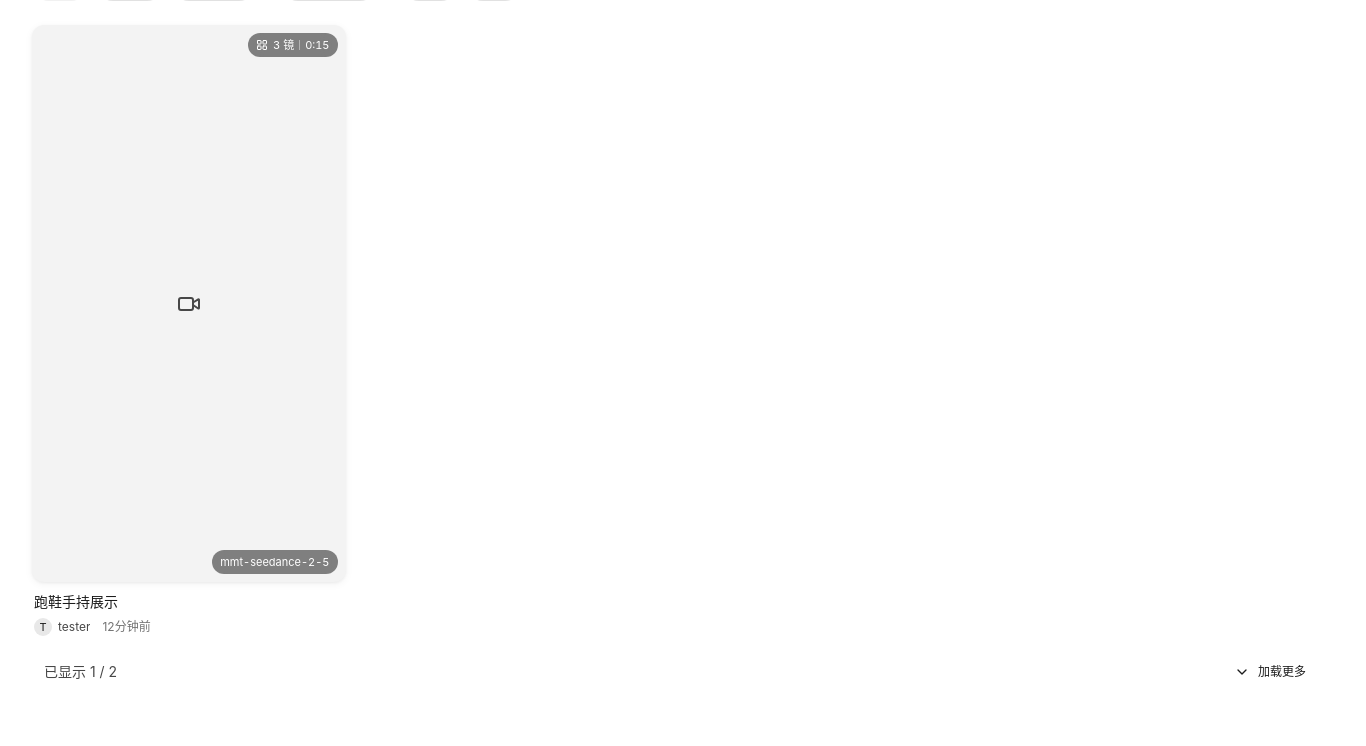
Test: LibraryRoute › pages with a cursor and says when nothing matches
(page scrolled)
expect the text "已显示 1 / 2" is shown: met, box [44, 662, 117, 682]
Click the button "加载更多" at [1270, 672], box [1218, 654, 1322, 690]
(page scrolled)
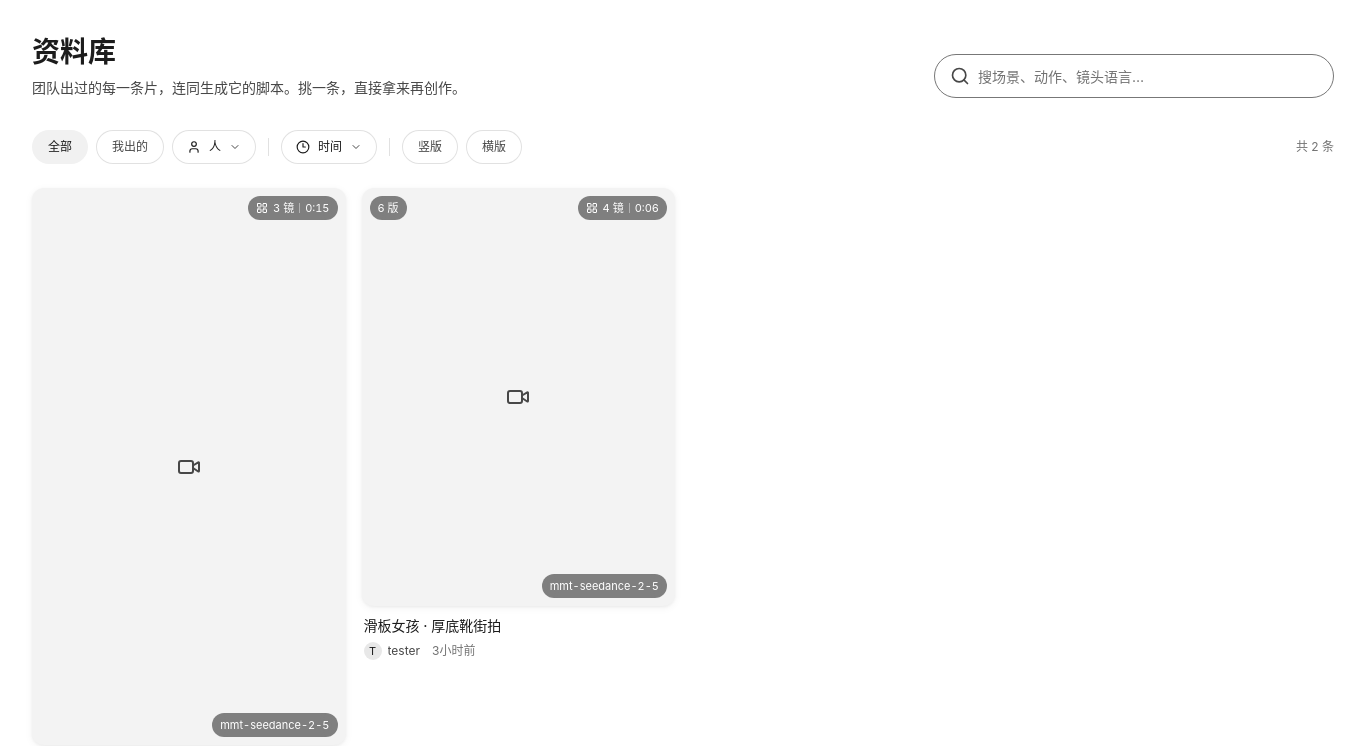
expect the button "加载更多" is gone: met
Type "没有的词" into the field named "搜索脚本" at [1148, 76], box [978, 55, 1318, 97]
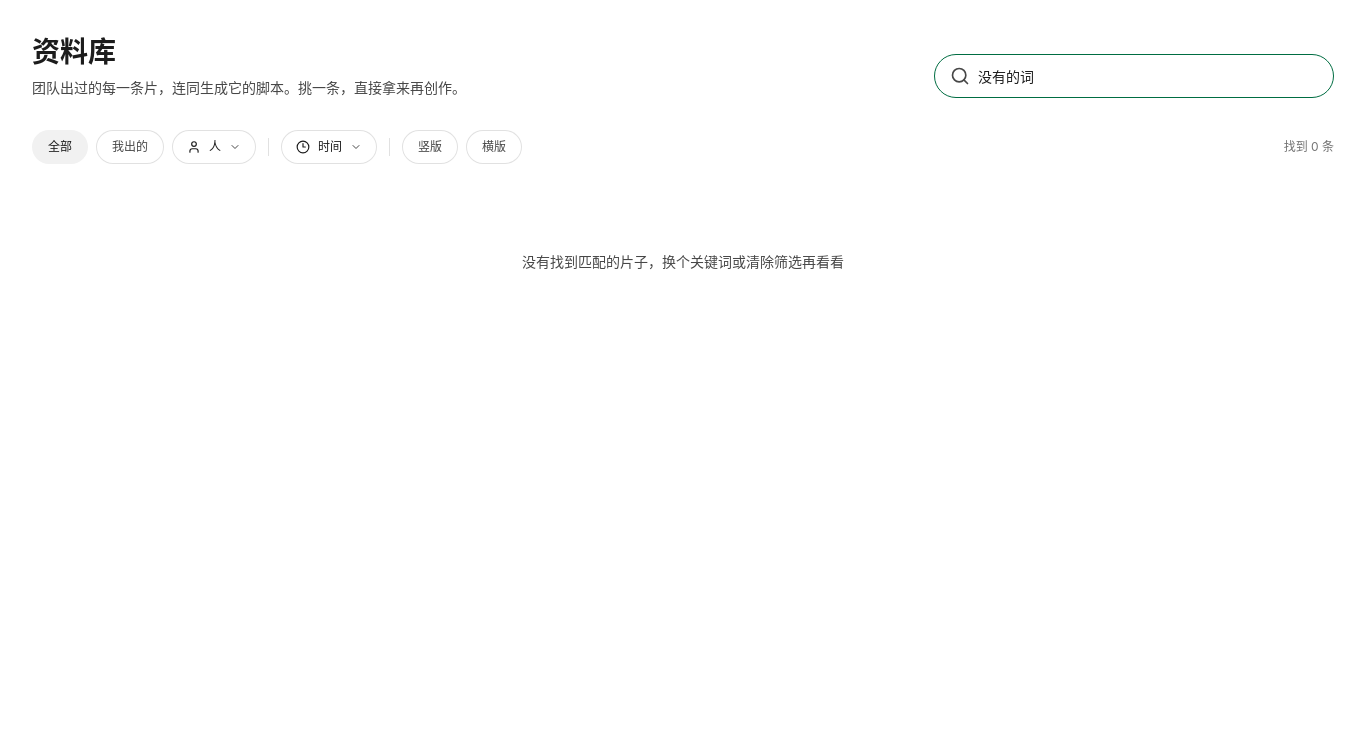
expect the text "没有找到匹配的片子，换个关键词或清除筛选再看看" is shown: met, box [522, 253, 844, 270]
